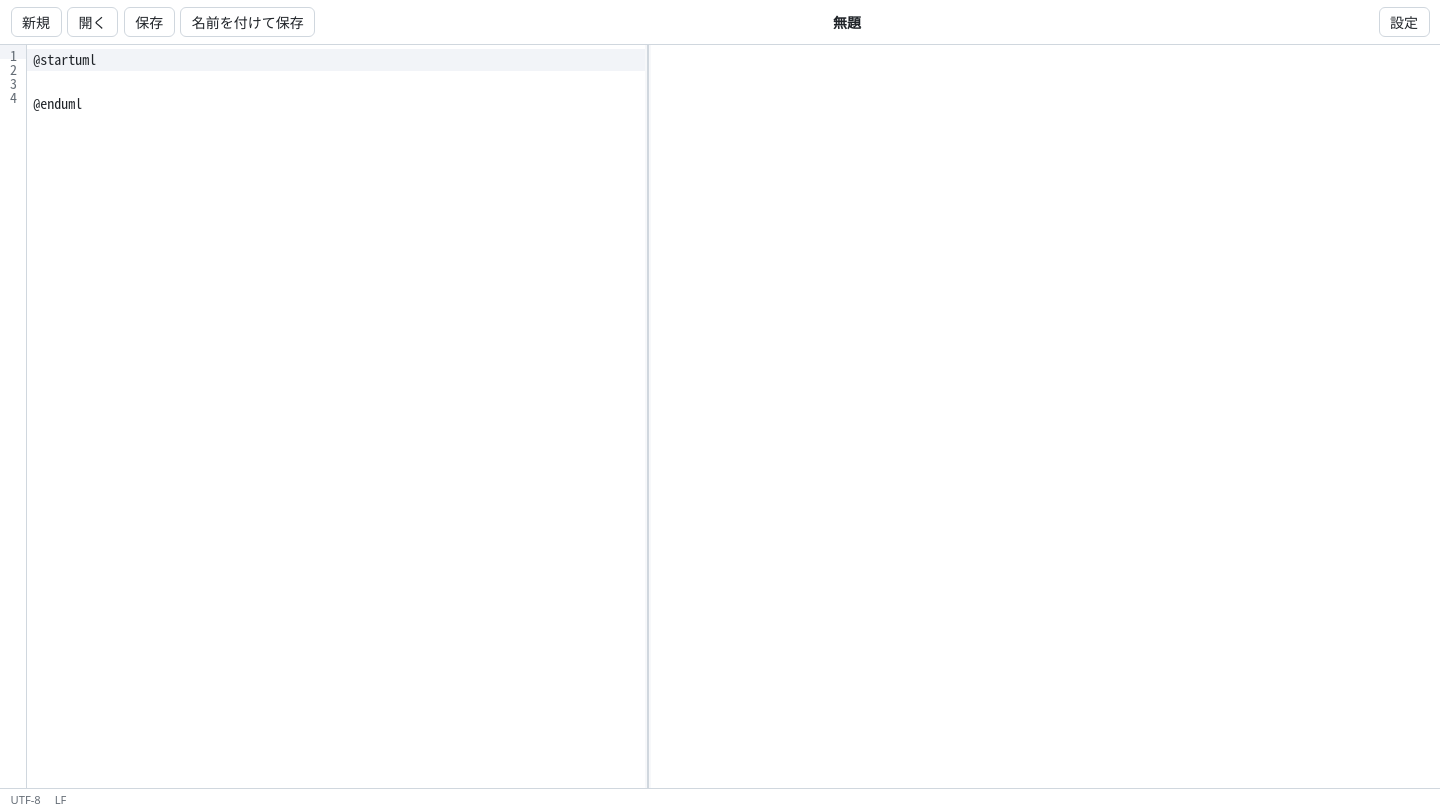
Test: App › 開けないファイルはメッセージを出し、編集中の内容は残す
Click the button "開く".
click(93, 22)  # box [67,7,118,37]
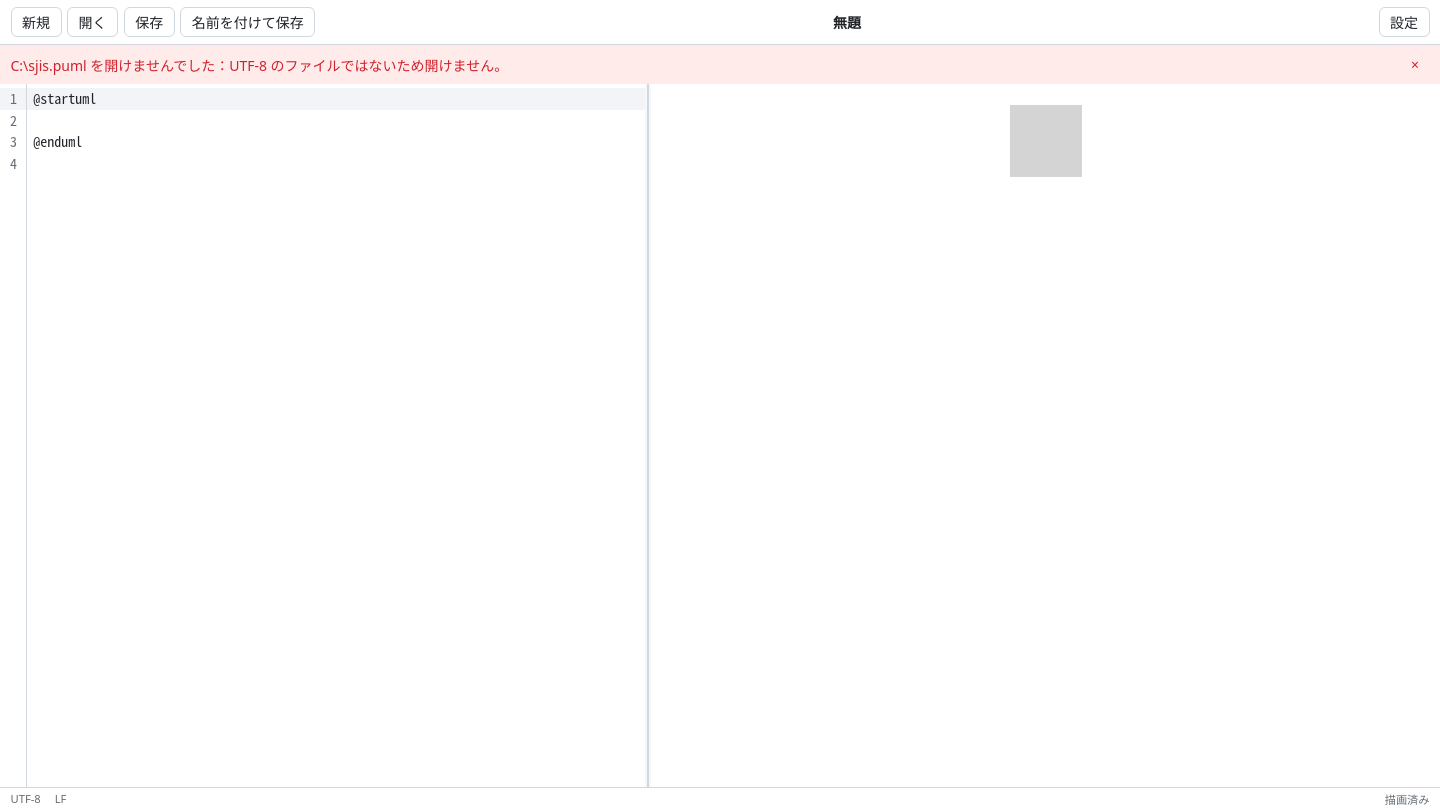
Expected: the text with test id "file-name" reads "無題", [833,13,861,32]
Expected: the message shows "UTF-8 のファイルではない", [10,56,508,75]
